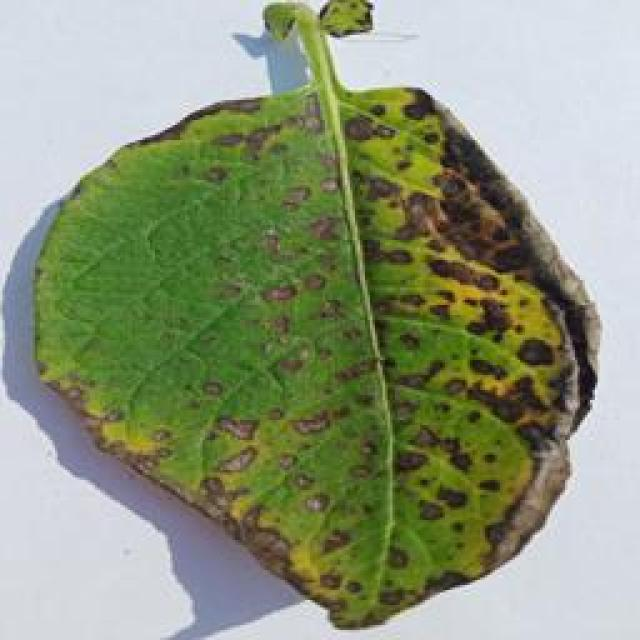Potato_Early_Blight: (24, 72, 610, 630)
